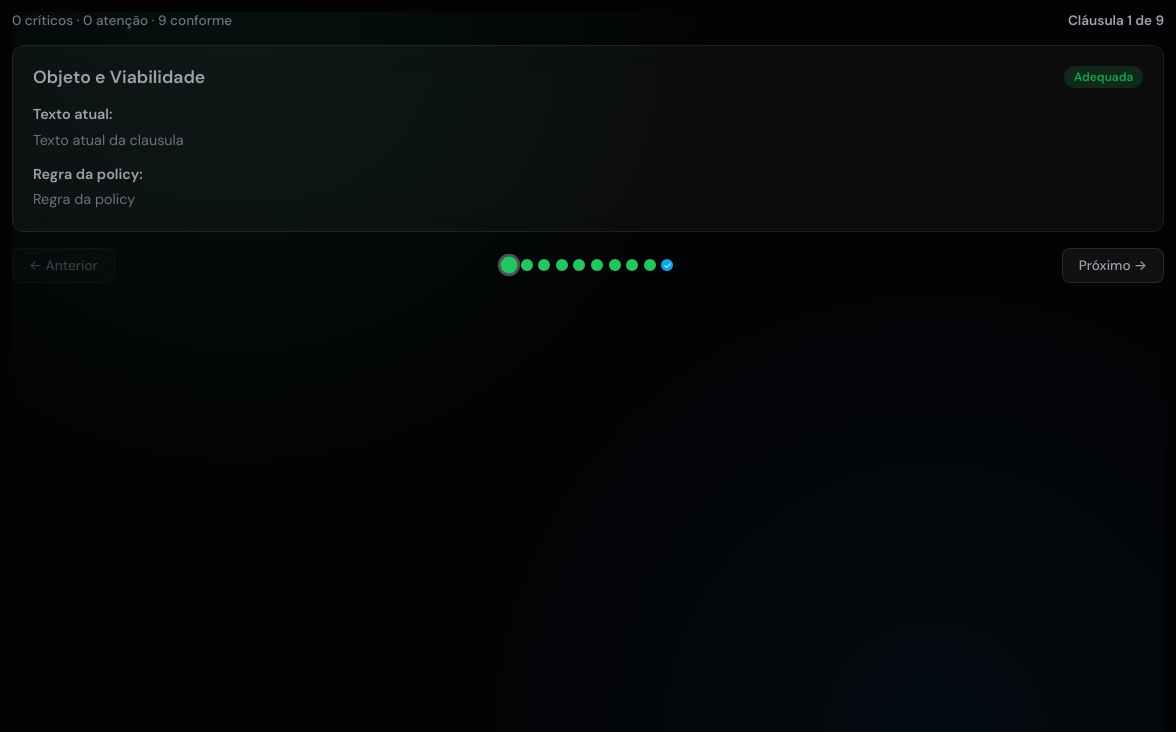
Test: ClauseStepper › navigates back with button
Step 1. Click the button "Próximo →" → {"x": 1113, "y": 265}, box [1062, 248, 1164, 283]
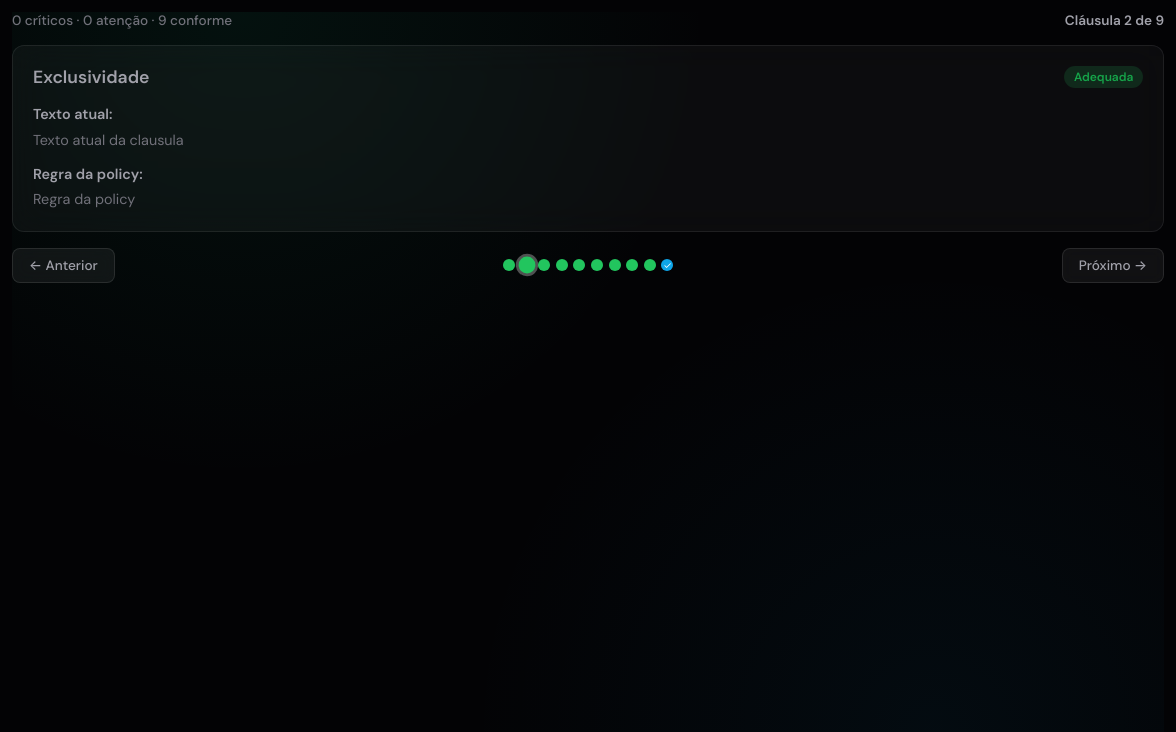
Step 2. Click the button "← Anterior" → {"x": 63, "y": 265}, box [12, 248, 115, 283]
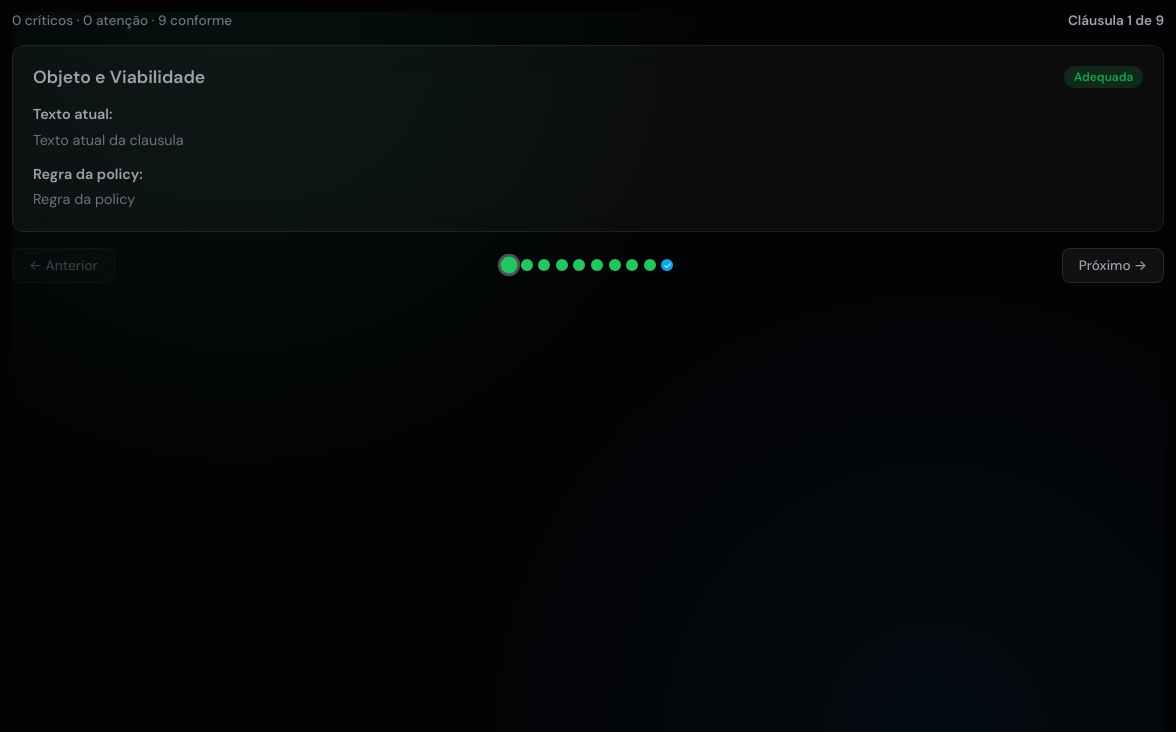
Result: the text "Cláusula 1 de 9" is shown at [1068, 12, 1164, 29]
